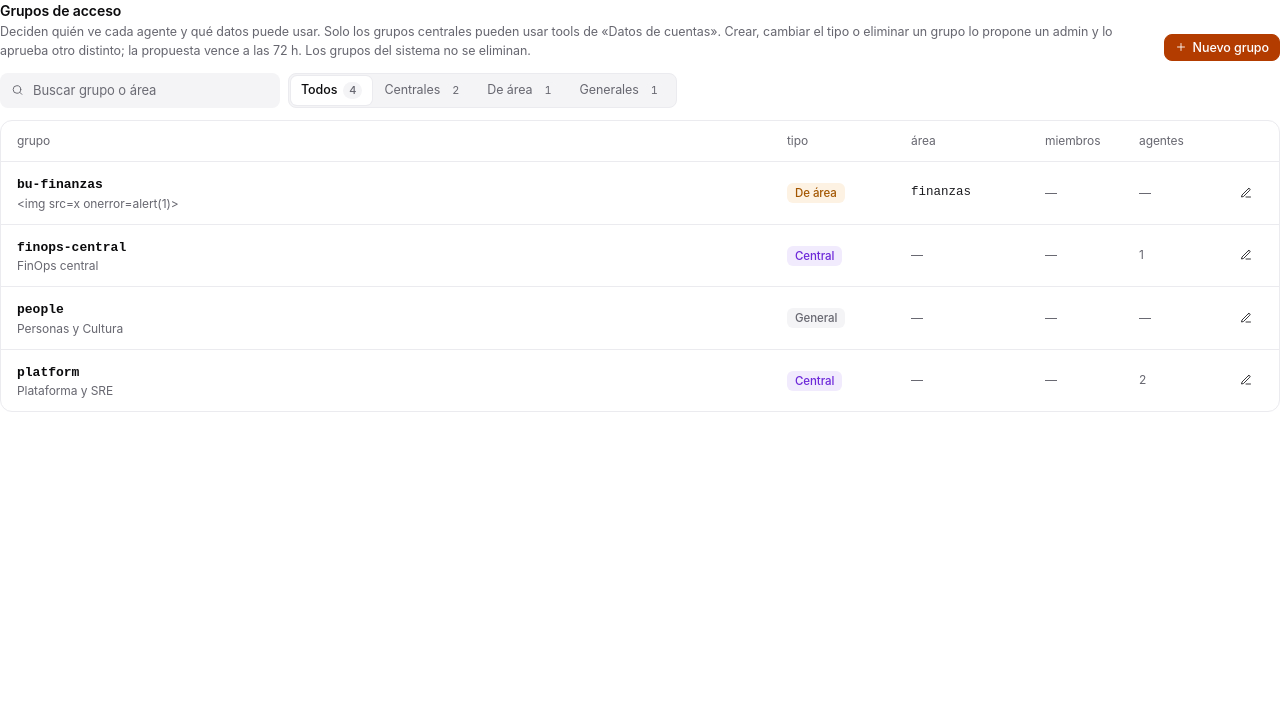
Test: GroupsTab (design groups-admin.jsx) › does not let an admin change the type of a group they belong to
Click the button named "Editar people". click: (1246, 318)
box: [1229,306,1263,330]
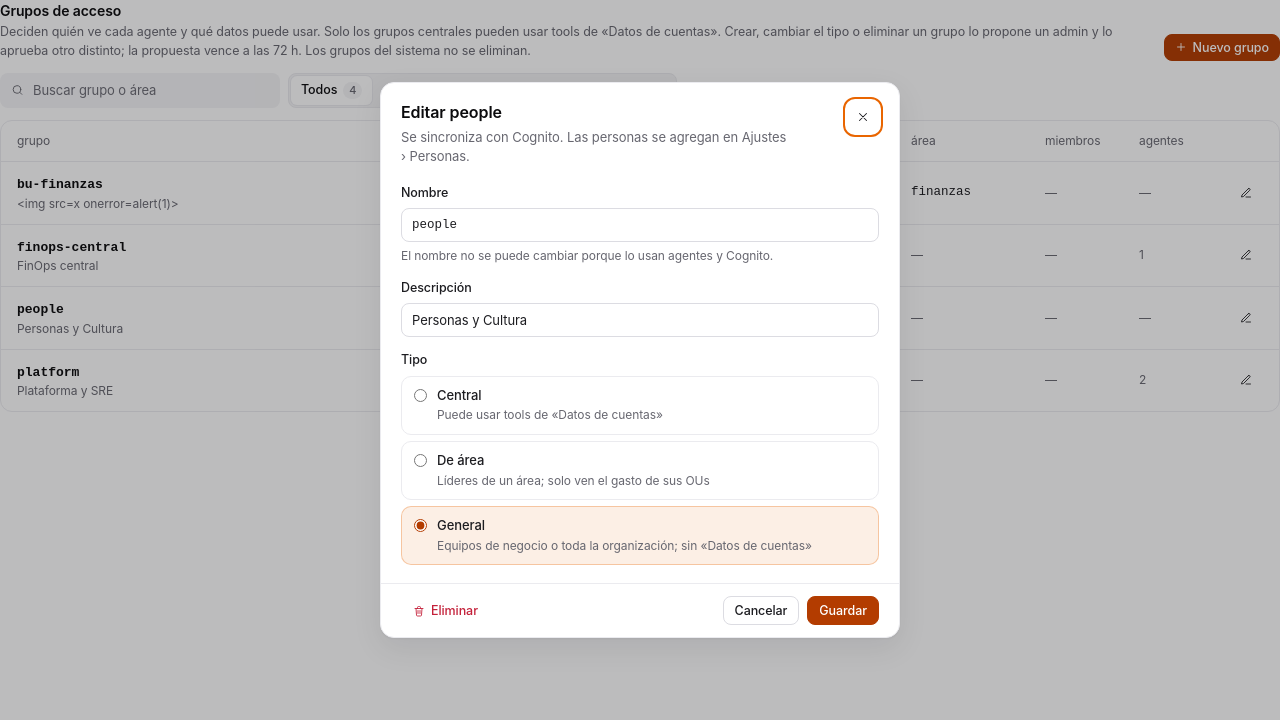
Click the radio button labelled "Central Puede usar tools de «Datos de cuentas»". click: (420, 395)
box: [414,389,427,402]
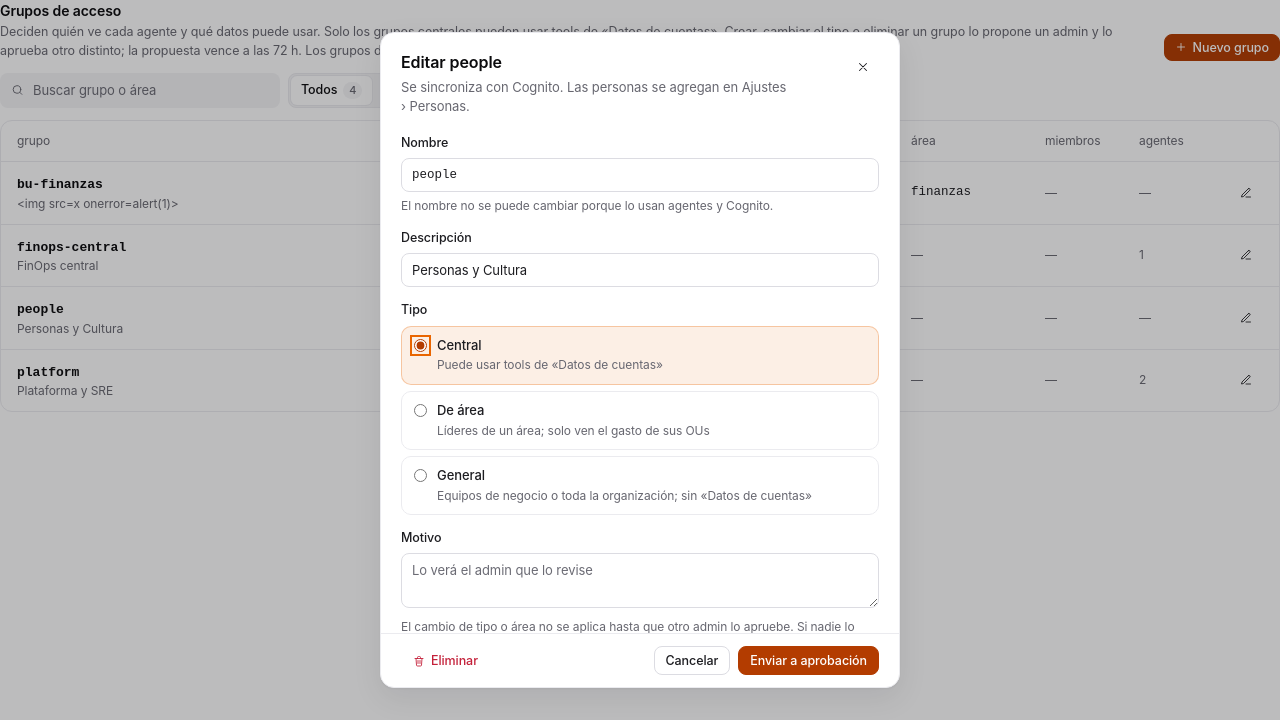
Type "x" into the text box labelled "Motivo". click: (640, 581)
box: [401,553,879,608]
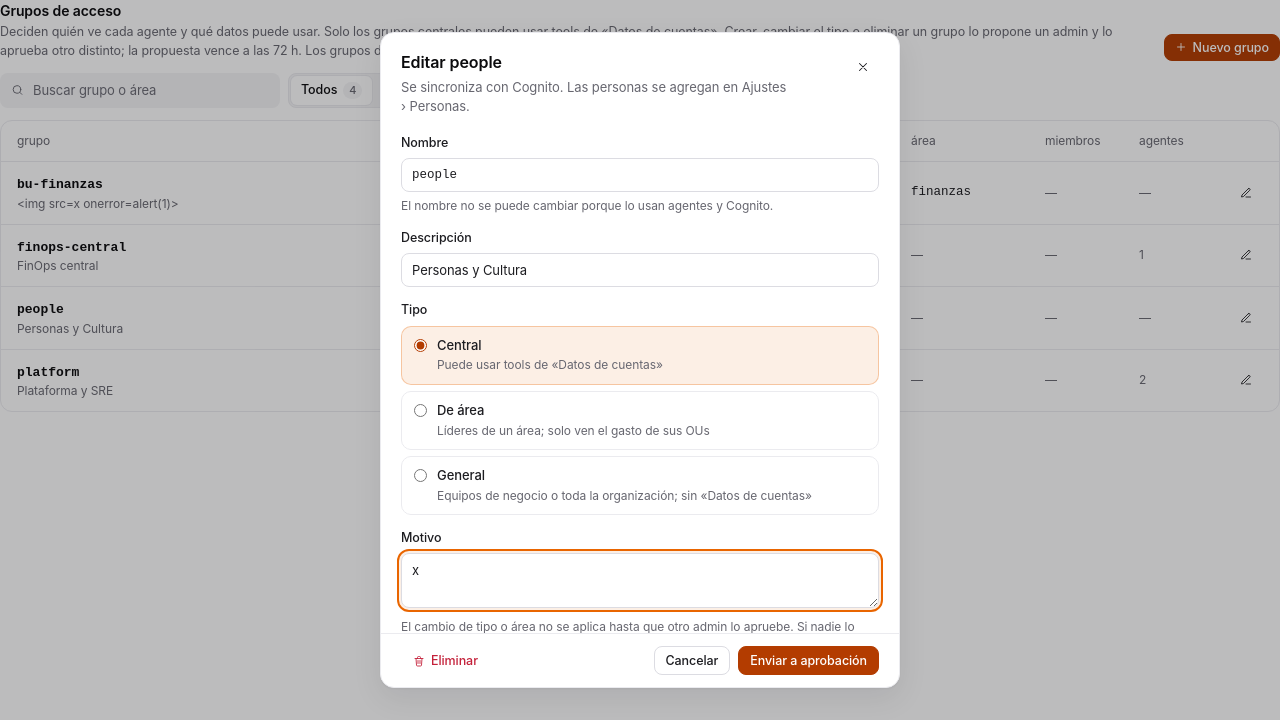
Click the button "Enviar a aprobación". click: (809, 660)
box: [738,646,879,675]
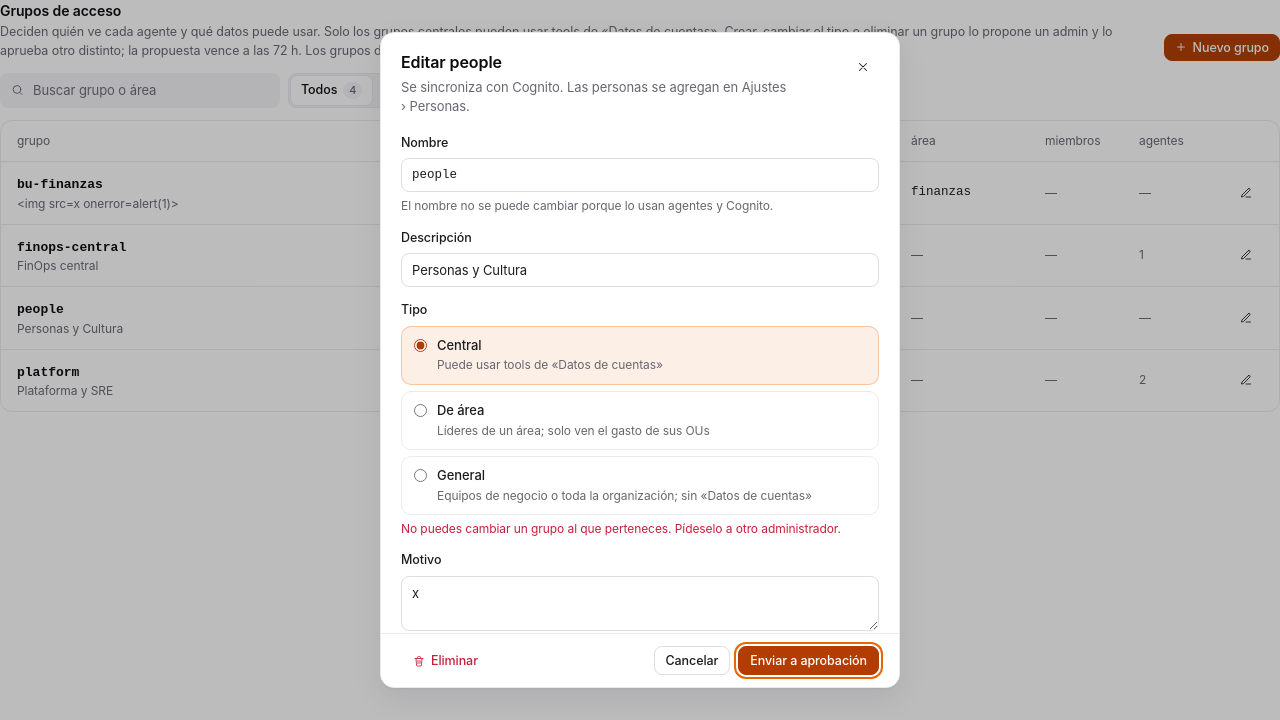
Expected: the text "No puedes cambiar un grupo al que perteneces. Pídeselo a otro administrador." is shown, [401,520,879,537]
